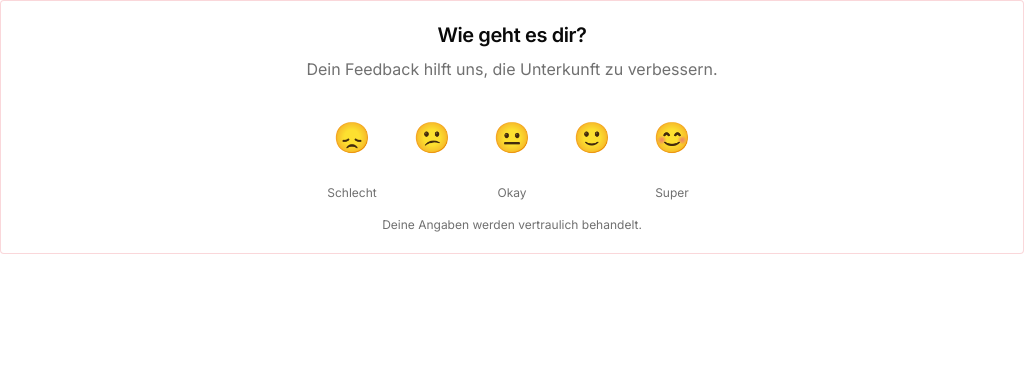
SatisfactionRating › shows error alert on network failure
The width and height of the screenshot is (1024, 391).
Click the button named "Sehr zufrieden": (672, 137) left=640, top=105, right=704, bottom=169
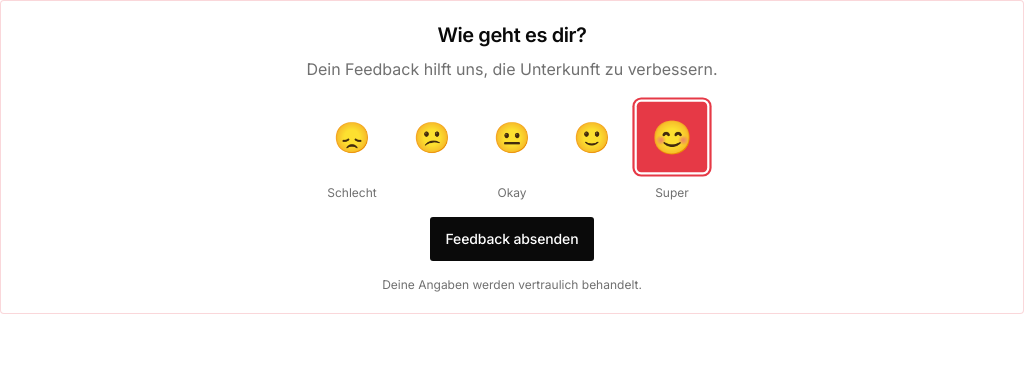
Click the button "Feedback absenden": (512, 239) left=430, top=217, right=594, bottom=261
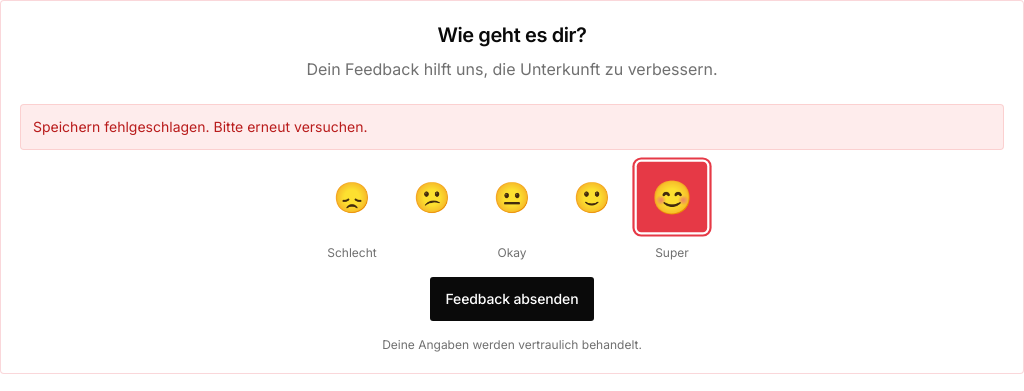
Now the message reads "Speichern fehlgeschlagen. Bitte erneut versuchen.", box left=33, top=118, right=368, bottom=135
